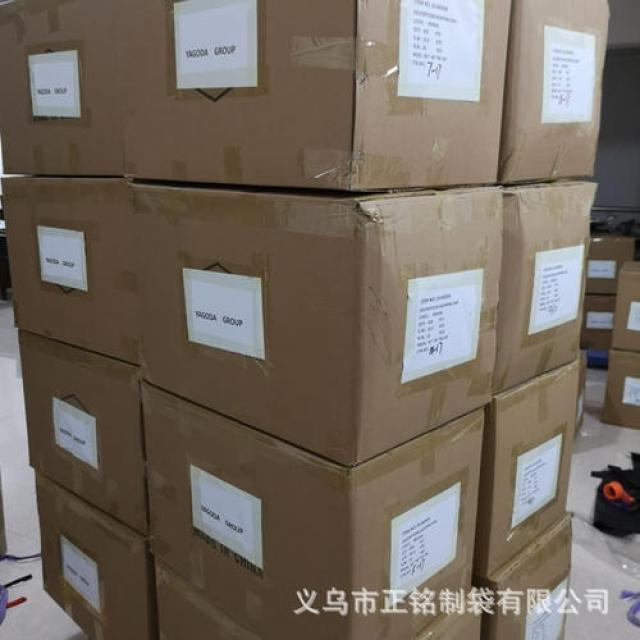box: (123, 177, 503, 469), (139, 378, 485, 639), (114, 1, 513, 193), (18, 328, 150, 535), (2, 177, 138, 365), (471, 359, 578, 589), (493, 177, 600, 395), (0, 0, 124, 178), (36, 469, 160, 639), (500, 0, 611, 184), (475, 509, 571, 639), (153, 554, 266, 639), (416, 587, 484, 639)
